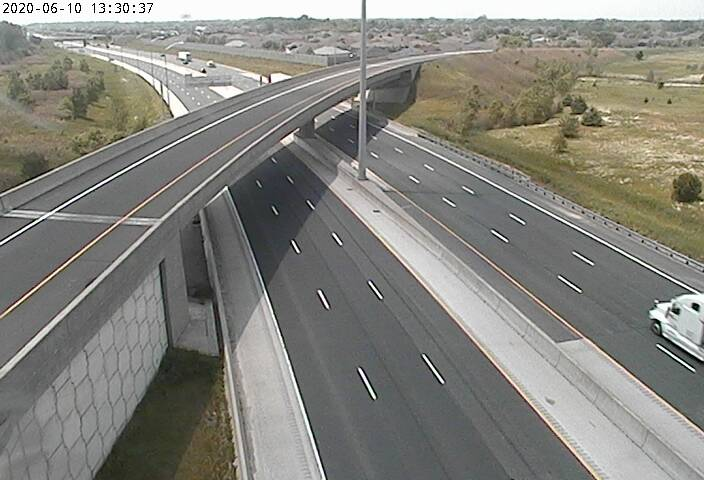time_stamp: (1, 1, 157, 17)
